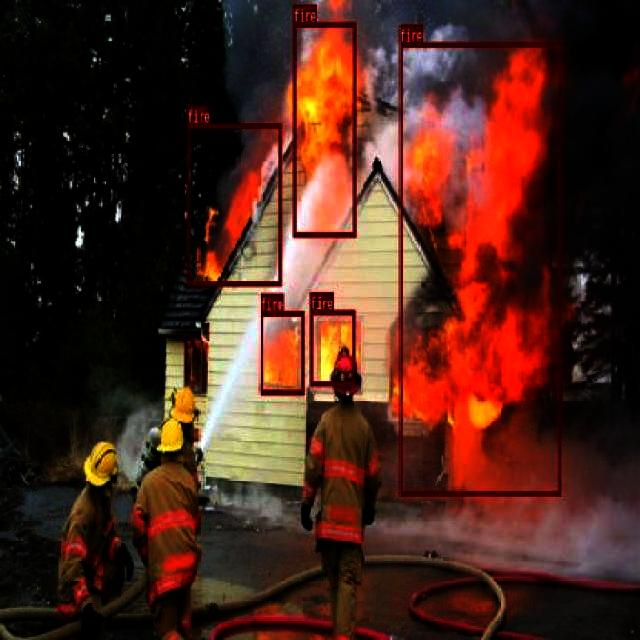fire: (398, 42, 560, 496), (186, 123, 282, 285), (292, 20, 356, 236), (259, 311, 304, 394), (310, 310, 356, 384)
